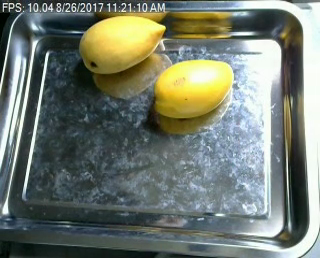Mango: (79, 14, 164, 73), (153, 59, 233, 118)
